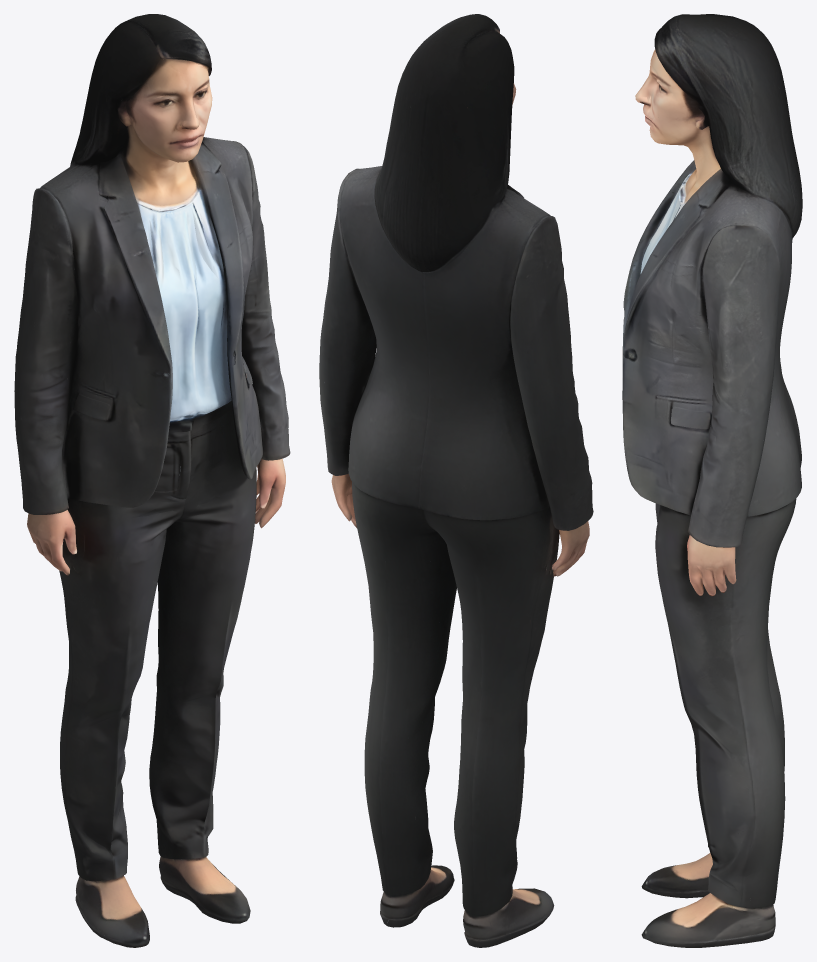
File: abogada1_mujer.glb
3 renders of one model, left to right at view 1: azimuth 30°, elevation 25°; view 2: azimuth 150°, elevation 25°; view 3: azimuth 270°, elevation 25°, orthographic.
Parts seen in each view (by area): view 1: model; view 2: model; view 3: model.
Part boxes in pixels (x1,y1,x2,y2): model: [14, 14, 290, 947]; model: [319, 14, 593, 947]; model: [622, 14, 802, 947].
Size of the model in its own units: 0.305 by 1 by 0.182.
Materials: 1 (1 with a texture image).
